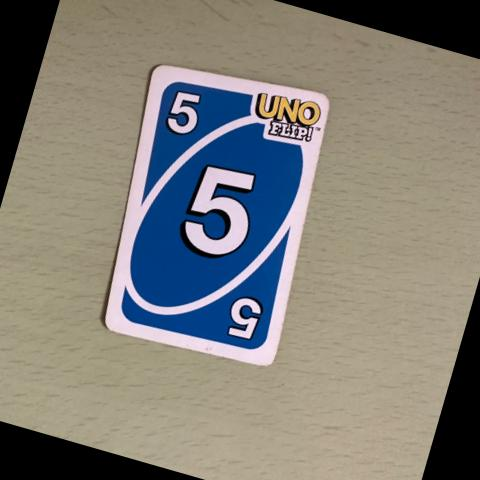lblue-5: (146, 72, 220, 150)
